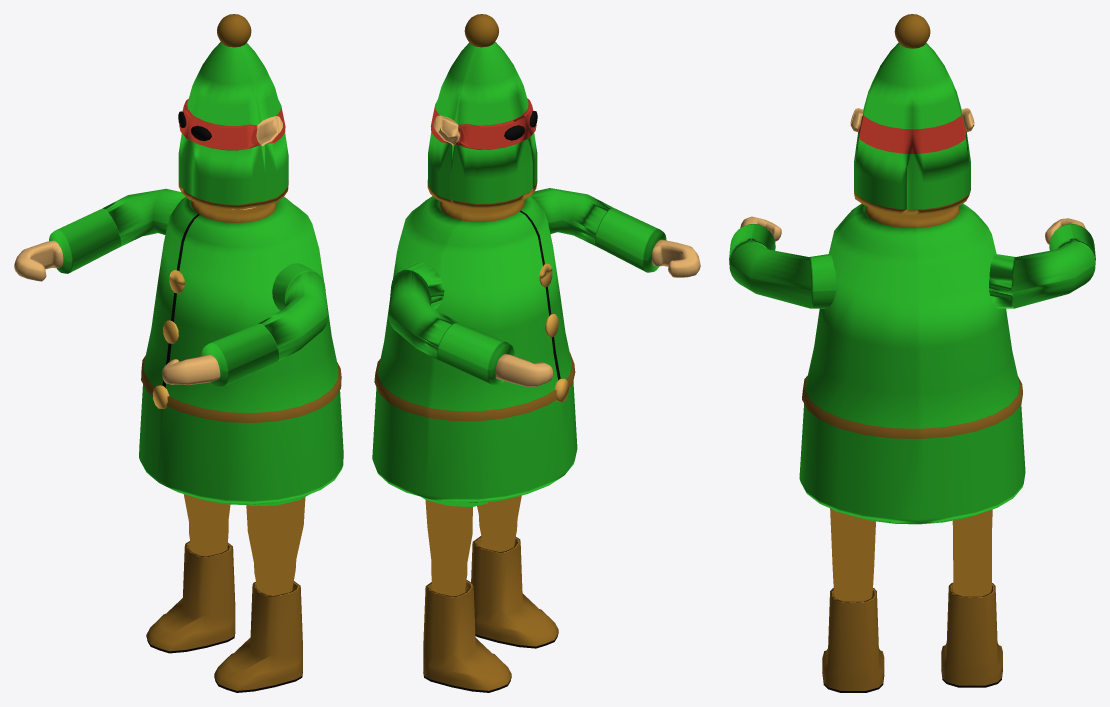
Rendered from elfo.fbx.
3 renders of one model, left to right at view 1: azimuth 30°, elevation 25°; view 2: azimuth 150°, elevation 25°; view 3: azimuth 270°, elevation 25°, orthographic. The views are drawn at different scales.
Parts seen in each view (by area): view 1: pCube25; view 2: pCube25; view 3: pCube25.
Boxes of the visible parts, x1,y1,x2,y2 form: pCube25: (14,14,343,692); pCube25: (372,14,700,692); pCube25: (729,14,1095,692).
Size of the model in its own units: 15.86 by 40.7 by 20.5.
